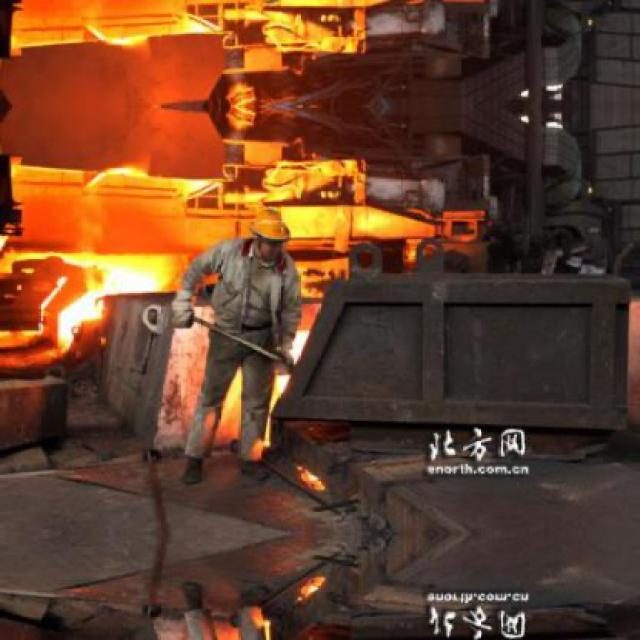helmet: (243, 207, 291, 260)
